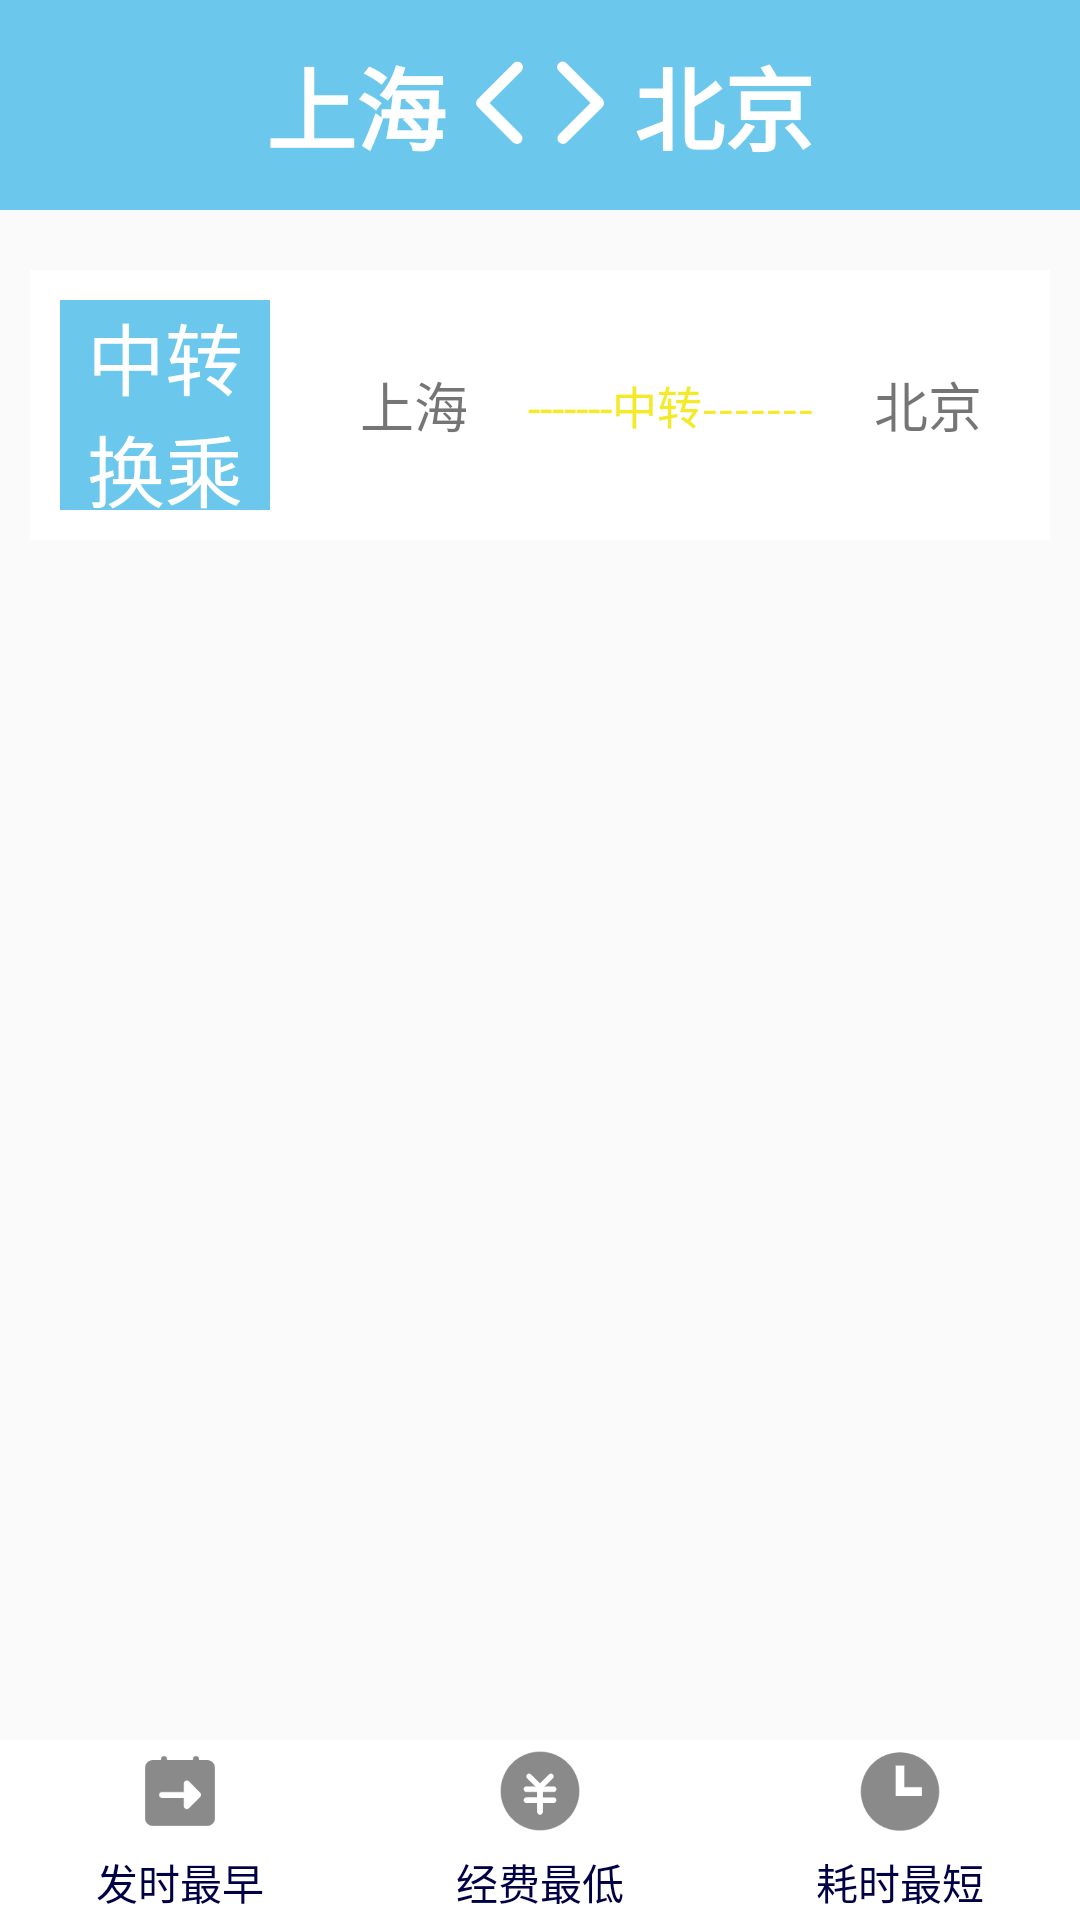

Icon bounding boxes for this 1080x1920 phone screenshot, format (x1, y1, x2, y2):
begin time: (145, 1756, 215, 1826)
money before: (500, 1751, 580, 1831)
time before: (860, 1752, 940, 1831)
